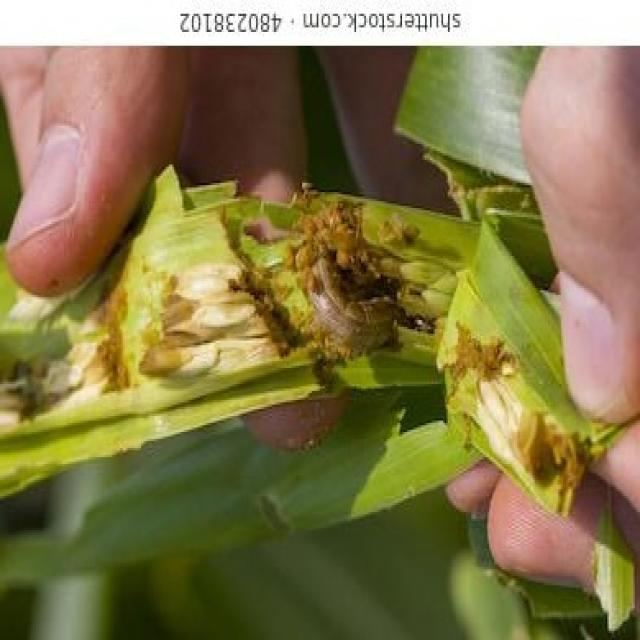army worm: (290, 234, 405, 349)
